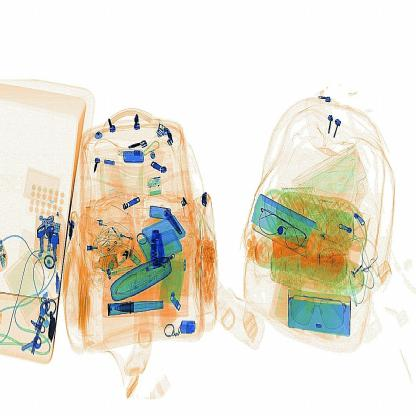scissors: (140, 218, 179, 270)
